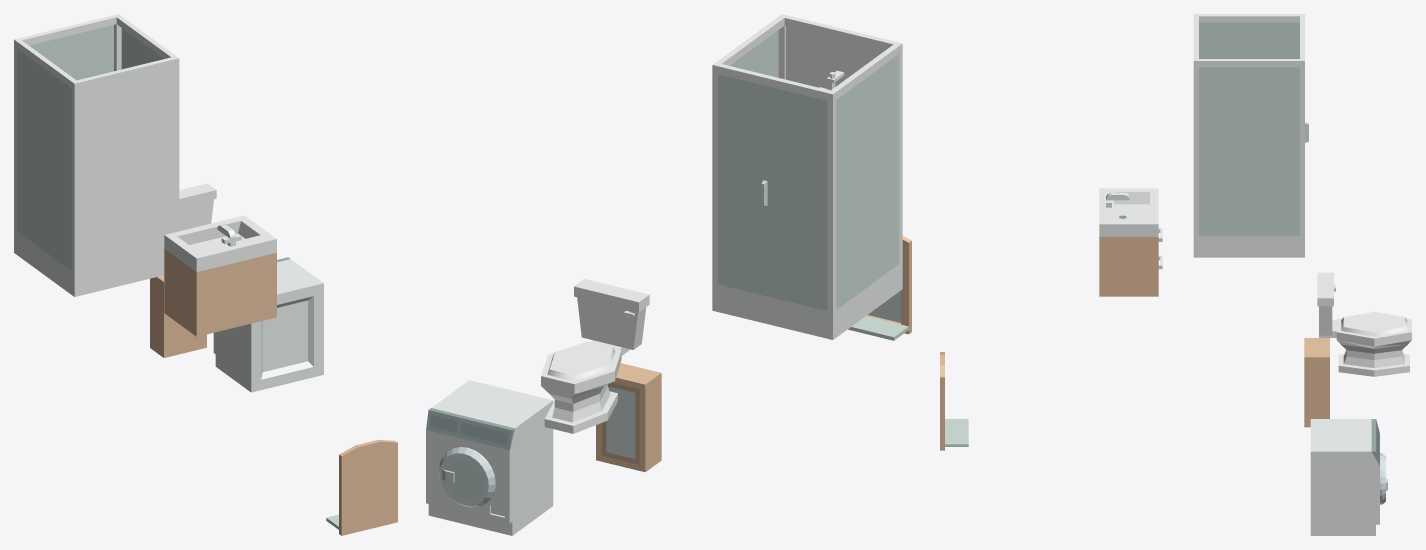
The model's file is bathroom.dae.
3 renders of one model, left to right at view 1: azimuth 30°, elevation 25°; view 2: azimuth 150°, elevation 25°; view 3: azimuth 270°, elevation 25°, orthographic. The views are drawn at different scales.
Visible parts, largest first — view 1: shower, bathroomCabinetDrawer, washer, bathroomMirror, bathroomCabinet, doorRight, toilet, doorLeft; view 2: shower, washer, doorLeft, doorRight, toilet, bathroomCabinet, washerDoor, door, bathroomMirror, cover; view 3: shower, washer, bathroomCabinetDrawer, toilet, bathroomCabinet, cover, bathroomMirror.
Boxes of the visible parts, x1,y1,x2,y2 form: shower: [14, 14, 179, 296]; bathroomCabinetDrawer: [164, 215, 276, 336]; washer: [213, 257, 323, 392]; bathroomMirror: [326, 439, 397, 535]; bathroomCabinet: [150, 275, 206, 357]; doorRight: [66, 25, 113, 80]; toilet: [179, 183, 216, 231]; doorLeft: [29, 36, 66, 72]; shower: [712, 14, 902, 339]; washer: [426, 380, 553, 535]; doorLeft: [772, 87, 827, 310]; doorRight: [718, 74, 772, 297]; toilet: [541, 279, 649, 433]; bathroomCabinet: [596, 363, 661, 472]; washerDoor: [439, 447, 495, 507]; door: [602, 382, 639, 464]; bathroomMirror: [848, 236, 911, 340]; cover: [547, 341, 615, 381]; shower: [1193, 14, 1304, 257]; washer: [1310, 419, 1379, 535]; bathroomCabinetDrawer: [1099, 188, 1158, 296]; toilet: [1317, 272, 1411, 376]; bathroomCabinet: [1304, 338, 1329, 427]; cover: [1341, 312, 1407, 336]; bathroomMirror: [940, 352, 968, 450].
Bounding box in the file's own units: 1.68 × 2.38 × 2.12.
